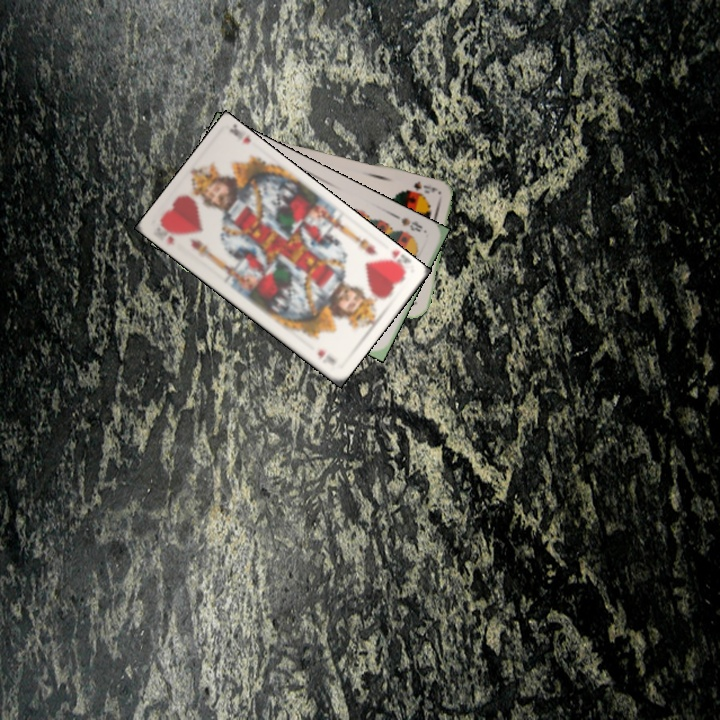HK: (381, 246, 412, 277), (150, 219, 182, 248)
S8: (392, 211, 425, 235)
SO: (410, 177, 439, 196)
